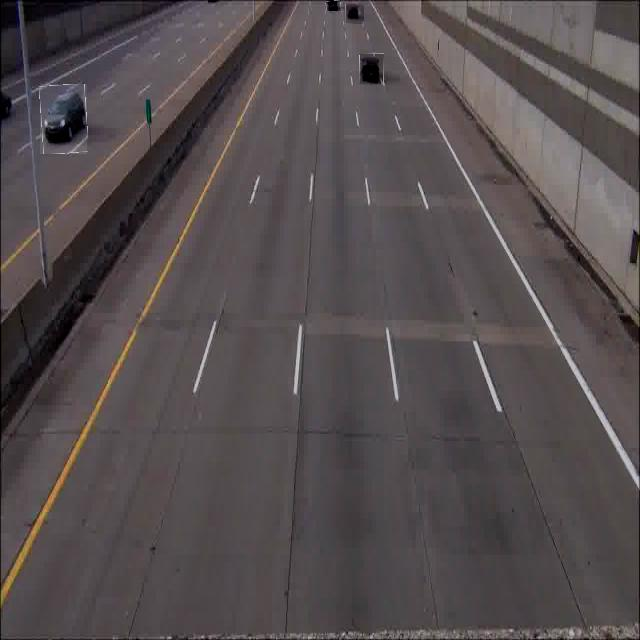Car: (40, 84, 87, 154), (360, 53, 384, 84), (345, 4, 364, 24), (326, 0, 341, 11)
